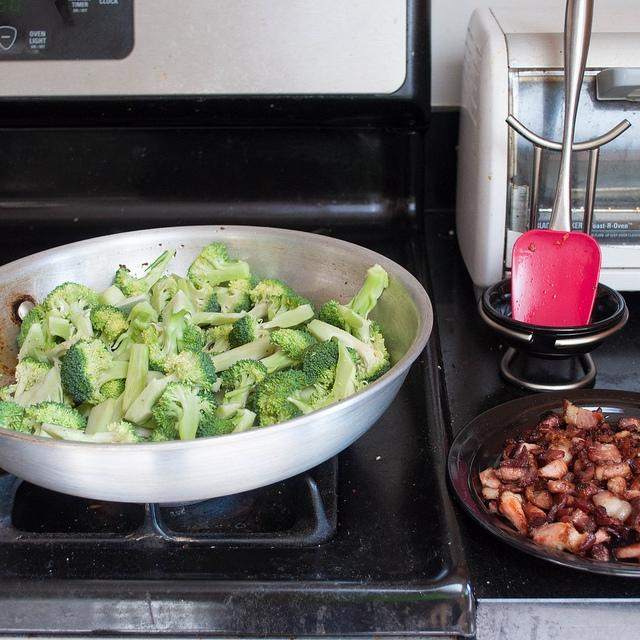broccoli: (124, 345, 218, 426), (307, 320, 392, 386), (318, 264, 388, 336), (60, 338, 129, 405), (152, 381, 218, 440), (40, 282, 100, 342), (112, 250, 176, 298), (187, 242, 250, 290), (253, 371, 315, 415), (256, 329, 314, 375), (112, 302, 158, 358), (211, 336, 278, 373), (220, 358, 268, 409), (11, 362, 64, 408), (240, 278, 294, 320), (22, 402, 86, 436), (10, 356, 54, 405), (121, 344, 150, 415), (18, 303, 62, 349), (90, 305, 131, 347), (302, 340, 338, 386), (196, 408, 250, 438), (337, 305, 372, 344), (253, 402, 304, 428), (267, 294, 315, 321), (148, 275, 178, 318), (84, 398, 116, 435), (266, 304, 314, 328), (186, 280, 221, 312), (18, 322, 44, 363), (188, 312, 247, 327), (300, 381, 335, 404), (217, 291, 253, 313), (1, 398, 23, 432), (228, 274, 260, 294), (100, 378, 126, 400), (141, 325, 165, 346), (151, 427, 170, 443)
